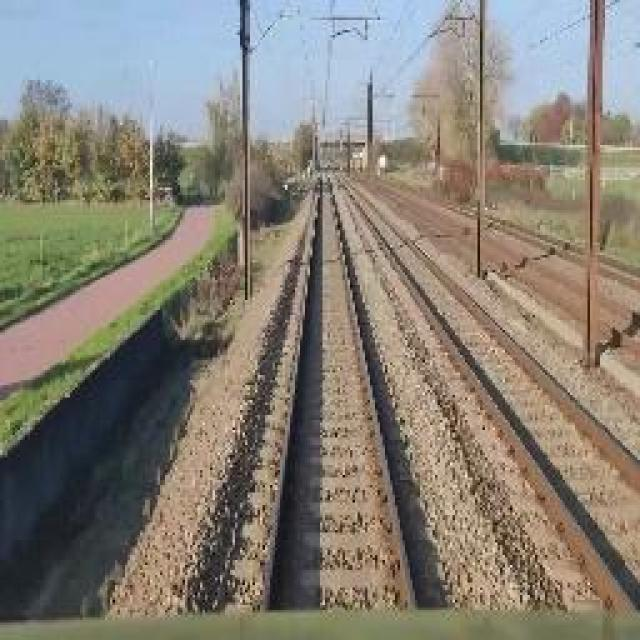rail: (331, 167, 640, 615), (219, 169, 451, 612)
